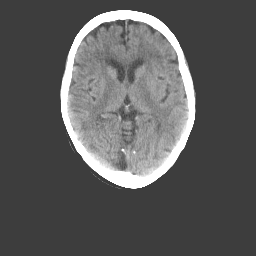ischemic: (137, 66, 158, 103)
